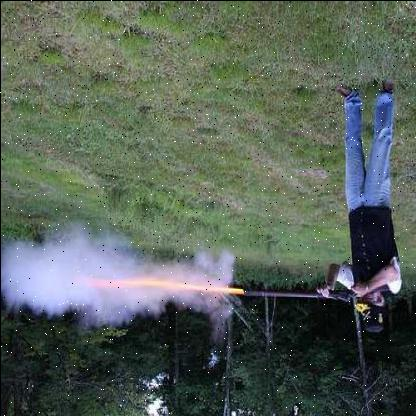rifle: (240, 270, 394, 306)
